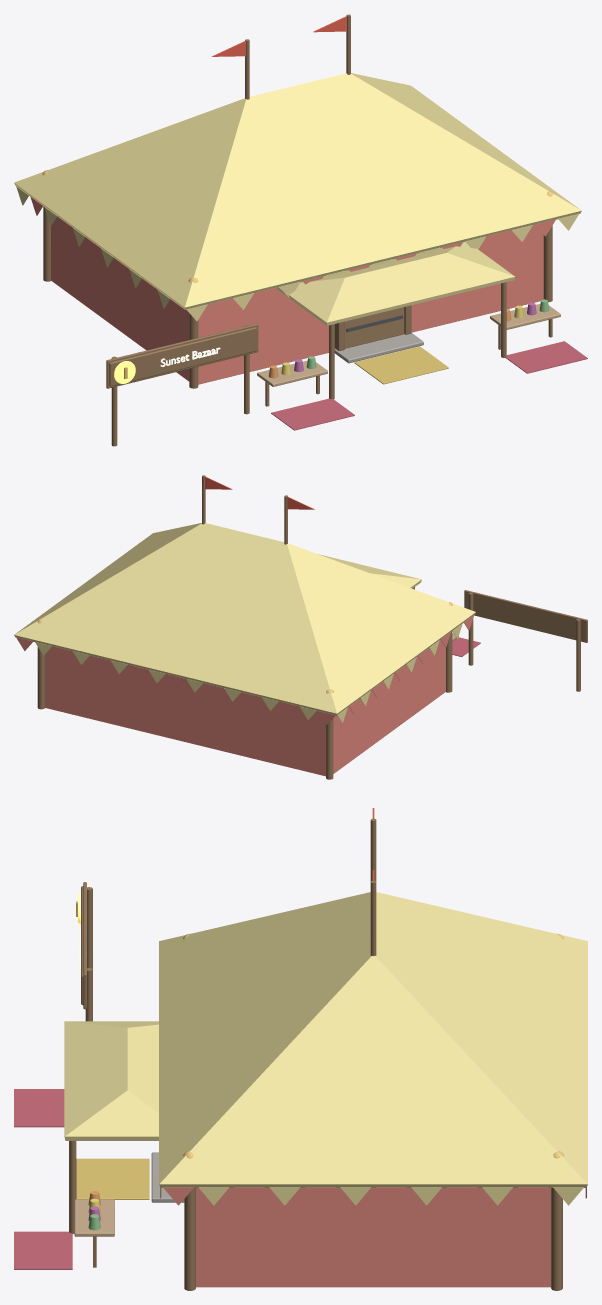
Rendered from sunset_bazaar.fbx.
The picture shows the model from 3 angles, top to bottom: view 1: azimuth 30°, elevation 25°; view 2: azimuth 150°, elevation 25°; view 3: azimuth 270°, elevation 25°; orthographic projection. The views are drawn at different scales.
Parts seen in each view (by area): view 1: sunset_bazaar; view 2: sunset_bazaar; view 3: sunset_bazaar.
Part boxes in pixels (x1=…): sunset_bazaar: x1=14, y1=14, x2=587, y2=446; sunset_bazaar: x1=14, y1=475, x2=587, y2=779; sunset_bazaar: x1=14, y1=808, x2=587, y2=1290.
Size of the model in its own units: 19.95 by 9.9 by 15.65.
